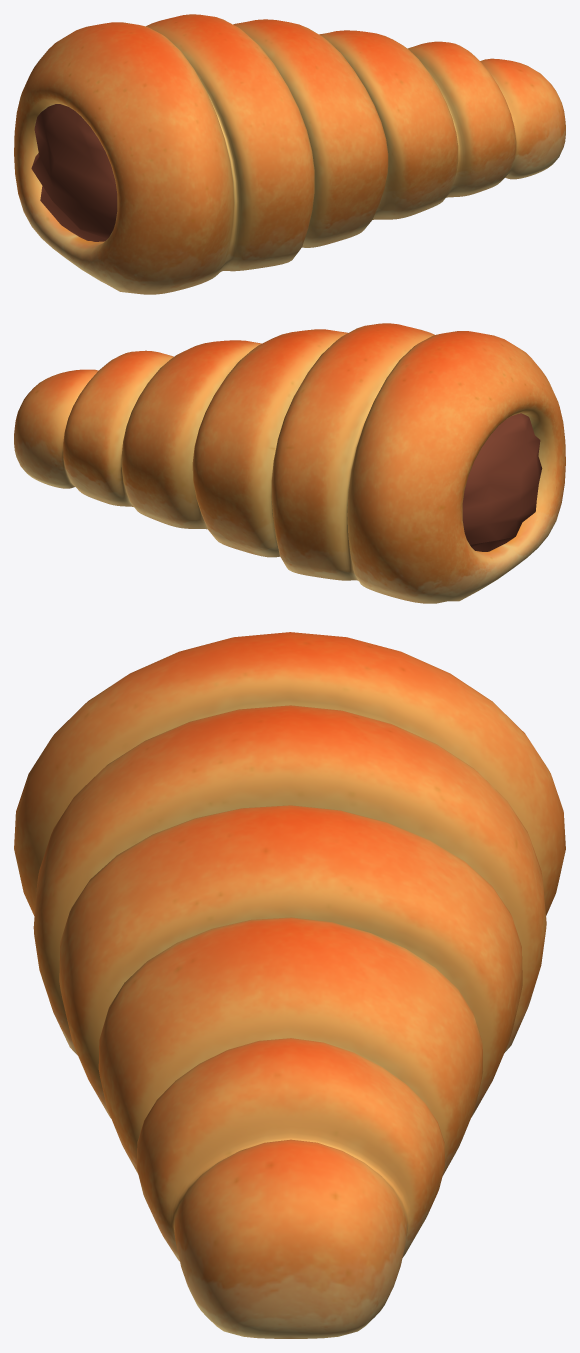
The model's file is coromet.gltf.
The picture shows the model from 3 angles, top to bottom: view 1: azimuth 30°, elevation 25°; view 2: azimuth 150°, elevation 25°; view 3: azimuth 270°, elevation 25°; orthographic projection. The views are drawn at different scales.
Visible parts, largest first — view 1: cornet, chocolate; view 2: cornet, chocolate; view 3: cornet.
Part boxes in pixels (bbox=[...]): cornet: bbox=[14, 14, 565, 294]; chocolate: bbox=[31, 104, 117, 241]; cornet: bbox=[14, 323, 565, 603]; chocolate: bbox=[462, 413, 542, 551]; cornet: bbox=[14, 632, 565, 1338].
Size of the model in its own units: 4.95 by 2.03 by 2.79.
Materials: 1 (1 with a texture image).
